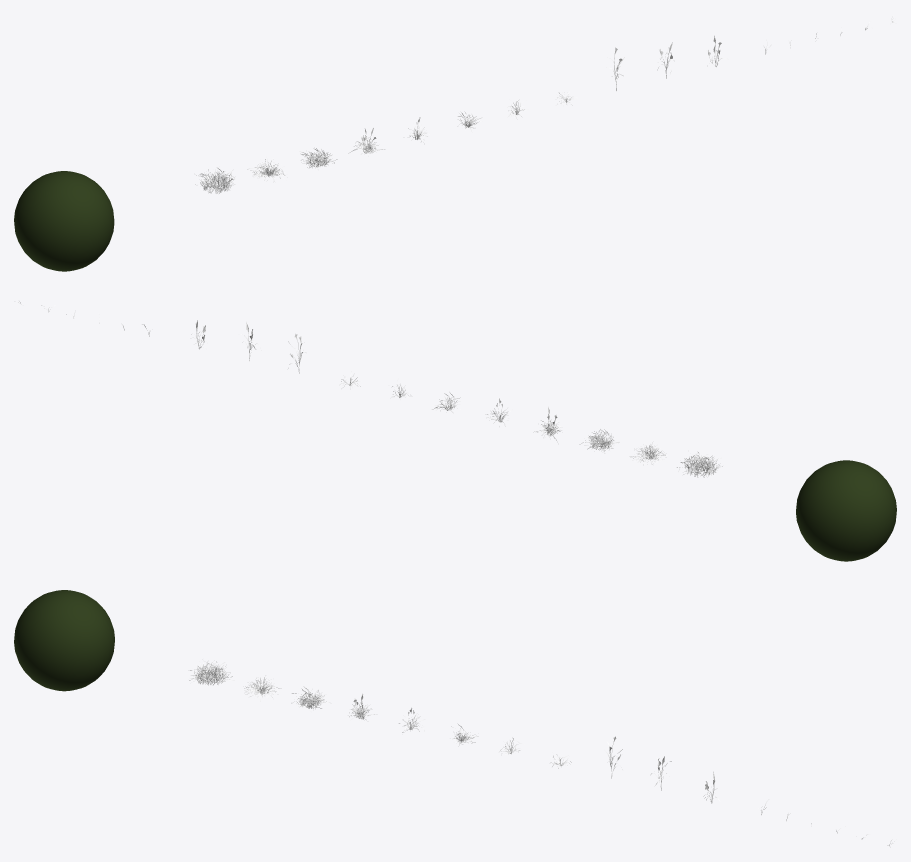
Rendered from grass_medium_01_1k.glb.
3 renders of one model, top to bottom at view 1: azimuth 30°, elevation 25°; view 2: azimuth 150°, elevation 25°; view 3: azimuth 330°, elevation 25°, orthographic.
Visible parts, largest first — view 1: grass_medium_01_geometry_nodes, grass_medium_01_geonodes_large_a_LOD0; view 2: grass_medium_01_geometry_nodes, grass_medium_01_geonodes_large_a_LOD0; view 3: grass_medium_01_geometry_nodes, grass_medium_01_geonodes_large_a_LOD0.
Boxes of the visible parts, box(x1,y1,x2,y2) form: grass_medium_01_geometry_nodes: box(14, 171, 114, 271); grass_medium_01_geonodes_large_a_LOD0: box(195, 166, 234, 195); grass_medium_01_geometry_nodes: box(796, 460, 896, 561); grass_medium_01_geonodes_large_a_LOD0: box(677, 451, 722, 477); grass_medium_01_geometry_nodes: box(14, 590, 114, 691); grass_medium_01_geonodes_large_a_LOD0: box(188, 660, 234, 685).
Size of what is drawn, in the model's own units: 7 by 0.7 by 0.7.
Materials: 2 (1 with a texture image).
